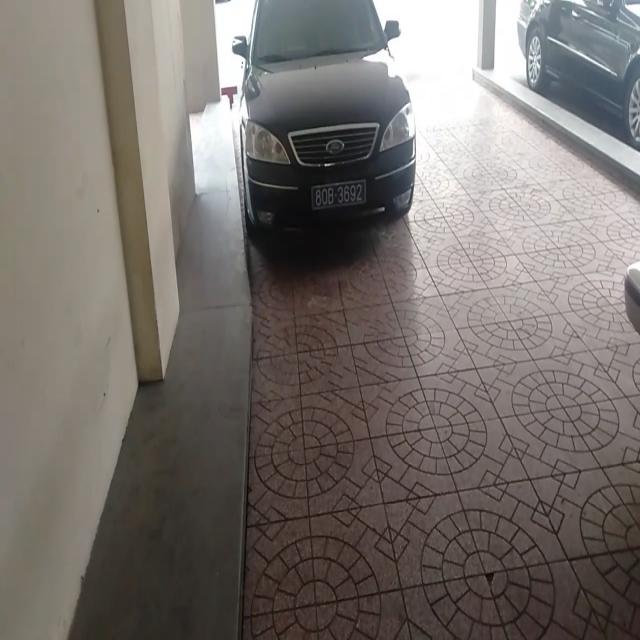bien_xanh: (311, 179, 368, 209)
